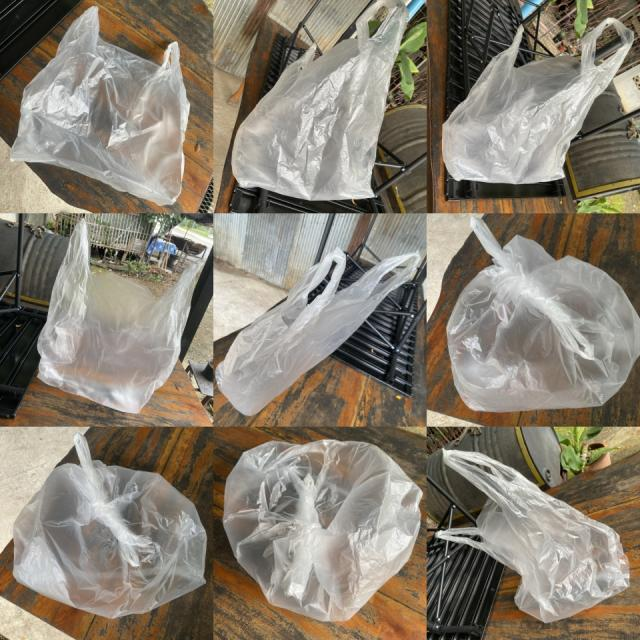Single-layer Plastic: (446, 218, 640, 412), (224, 440, 422, 621), (10, 6, 190, 205), (12, 434, 206, 618), (231, 0, 408, 201), (216, 248, 421, 415), (438, 450, 629, 622), (38, 220, 202, 413), (442, 18, 632, 183)
